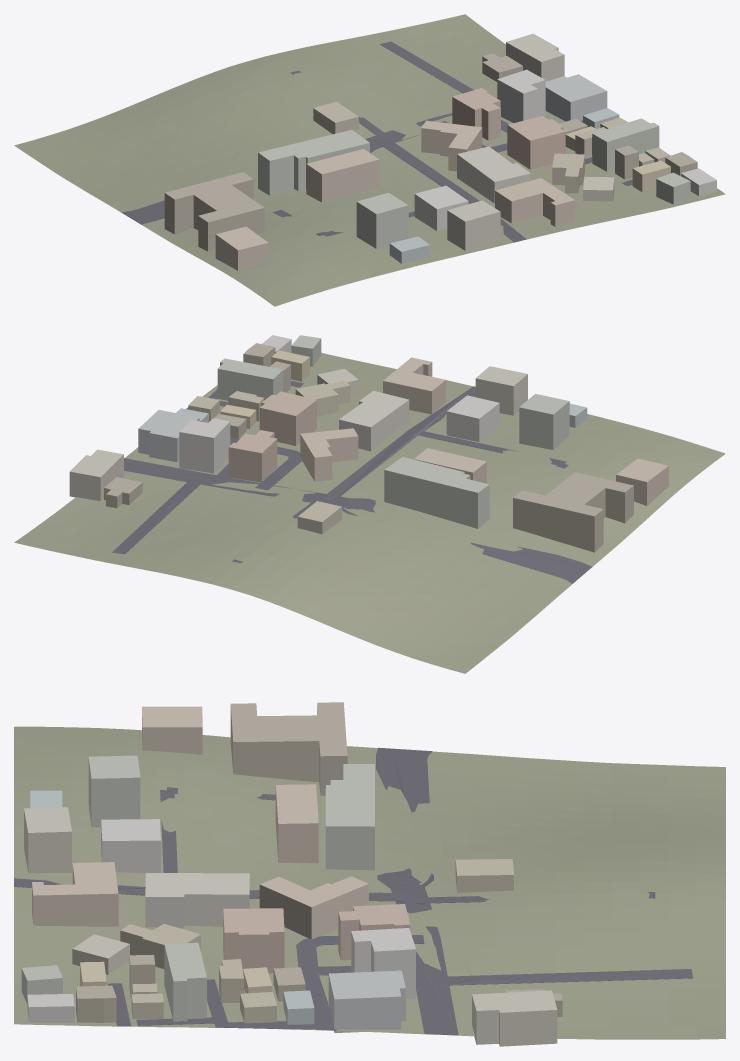
The model's file is chunk_2_8.glb.
3 views of the same model, one above another, from view 1: azimuth 30°, elevation 25°; view 2: azimuth 150°, elevation 25°; view 3: azimuth 270°, elevation 25° (orthographic). The views are drawn at different scales.
Parts seen in each view (by area): view 1: geometry_33, geometry_0, geometry_22, geometry_29, geometry_17, geometry_19, geometry_16, geometry_5, geometry_13, geometry_31, geometry_15, geometry_14 (+17 smaller); view 2: geometry_33, geometry_0, geometry_22, geometry_16, geometry_15, geometry_5, geometry_19, geometry_17, geometry_21, geometry_14, geometry_1, geometry_12 (+19 smaller); view 3: geometry_33, geometry_0, geometry_16, geometry_22, geometry_17, geometry_12, geometry_13, geometry_21, geometry_19, geometry_5, geometry_29, geometry_39 (+30 smaller).
Boxes of the visible parts, x1,y1,x2,y2 form: geometry_33: (14,14,725,306); geometry_0: (164,172,264,251); geometry_22: (258,130,369,195); geometry_29: (306,149,379,202); geometry_17: (495,178,574,226); geometry_19: (507,116,565,169); geometry_16: (457,146,530,203); geometry_5: (356,192,408,248); geometry_13: (545,74,607,121); geometry_31: (447,200,500,250); geometry_15: (497,69,545,122); geometry_14: (592,118,659,171); geometry_33: (14,351,725,673); geometry_0: (513,472,633,552); geometry_22: (384,457,489,528); geometry_16: (339,391,409,451); geometry_15: (179,418,230,473); geometry_5: (519,394,569,449); geometry_19: (259,391,316,445); geometry_17: (383,357,445,414); geometry_21: (300,428,358,481); geometry_14: (217,358,283,400); geometry_1: (228,430,277,482); geometry_12: (69,449,123,501); geometry_33: (14,726,725,1039); geometry_0: (230,702,347,795); geometry_16: (145,873,249,928); geometry_22: (325,764,374,870); geometry_17: (32,862,118,926); geometry_12: (472,990,557,1046); geometry_13: (328,970,405,1032); geometry_21: (259,876,368,939); geometry_19: (223,908,284,974); geometry_5: (88,755,140,827); geometry_29: (275,784,318,863); geometry_39: (391,885,458,1035).
Bounding box in the file's own units: 256 × 37.35 × 250.
